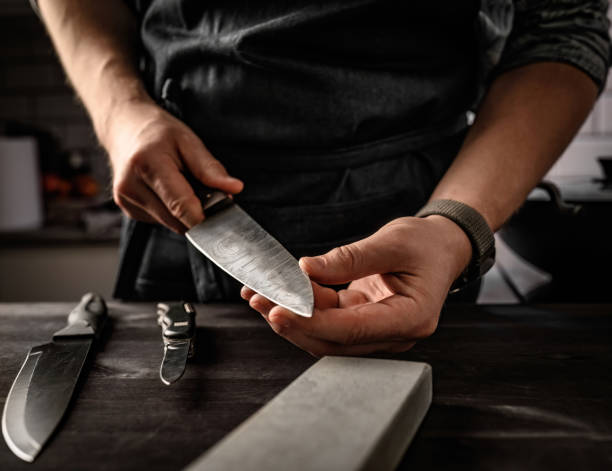knife: (1, 289, 111, 464), (182, 201, 315, 320), (157, 299, 198, 388)
